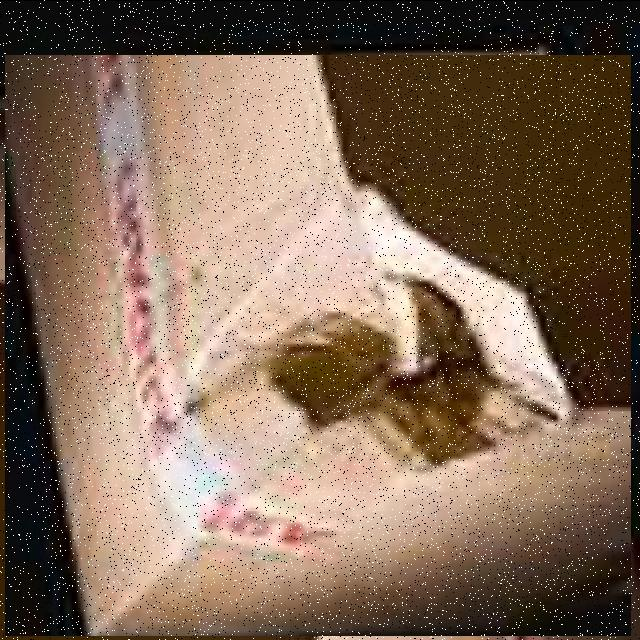defect: (4, 54, 630, 635)
